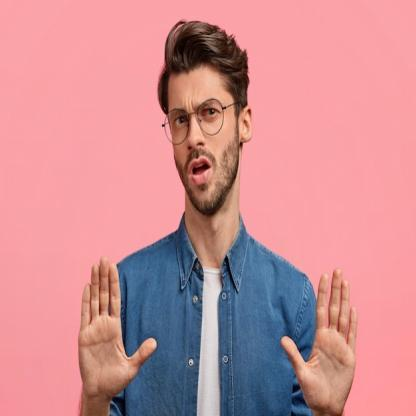stop: (278, 265, 366, 416), (74, 254, 160, 403)
